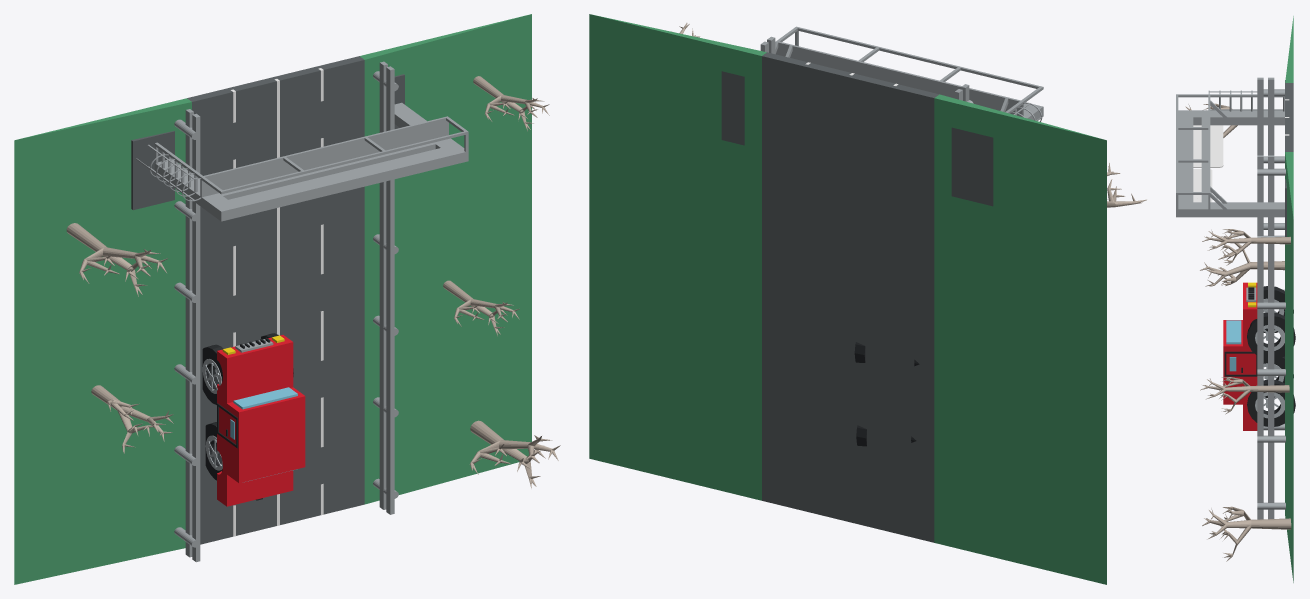
The model's file is tinker.obj.
3 renders of one model, left to right at view 1: azimuth 30°, elevation 25°; view 2: azimuth 150°, elevation 25°; view 3: azimuth 270°, elevation 25°, orthographic. The views are drawn at different scales.
Visible parts, largest first — view 1: group_0_5285491, group_0_6383466, group_0_10988977, group_0_15277357, group_0_12234145, group_0_16448250, group_0_2829873, group_0_8768998, group_0_12568524; view 2: group_0_5285491, group_0_6383466, group_0_10988977; view 3: group_0_10988977, group_0_12234145, group_0_5285491, group_0_15277357, group_0_2829873, group_0_16448250, group_0_12568524, group_0_6383466, group_0_8768998.
Part boxes in pixels (x1,y1,x2,y2): group_0_5285491: (14,14,531,584); group_0_6383466: (131,56,404,544); group_0_10988977: (136,61,468,562); group_0_15277357: (217,335,305,506); group_0_12234145: (66,76,560,488); group_0_16448250: (231,68,323,536); group_0_2829873: (202,333,293,500); group_0_8768998: (230,387,297,482); group_0_12568524: (202,359,222,470); group_0_5285491: (589,14,1106,584); group_0_6383466: (721,52,993,542); group_0_10988977: (760,26,1043,121); group_0_10988977: (1176,77,1285,519); group_0_12234145: (1185,103,1291,561); group_0_5285491: (1285,16,1293,582); group_0_15277357: (1223,282,1257,430); group_0_2829873: (1224,286,1295,426); group_0_16448250: (1193,99,1289,202); group_0_12568524: (1255,298,1284,418); group_0_6383466: (1285,80,1293,244); group_0_8768998: (1226,320,1241,371).
Size of the model in its own units: 229 by 188 by 56.
